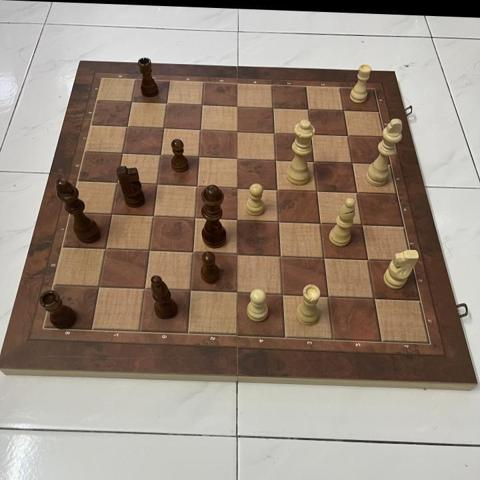xcorner: (138, 280, 155, 297), (196, 96, 212, 113), (350, 184, 366, 201), (355, 216, 371, 233), (230, 246, 247, 262), (92, 278, 108, 295), (184, 282, 201, 298), (125, 93, 141, 109), (160, 95, 176, 111), (231, 98, 247, 114), (266, 100, 282, 116), (302, 101, 318, 117), (337, 103, 353, 119), (120, 118, 136, 134), (157, 120, 173, 136), (194, 121, 210, 137), (231, 123, 247, 139), (268, 125, 284, 141), (304, 126, 320, 142), (341, 128, 357, 144), (116, 145, 132, 161), (154, 146, 170, 162), (193, 148, 209, 164), (231, 150, 247, 166), (269, 152, 285, 168), (307, 153, 323, 169), (345, 155, 361, 171), (111, 174, 127, 190), (151, 176, 167, 192), (191, 177, 207, 193), (231, 179, 247, 195), (271, 181, 287, 197), (310, 183, 326, 199), (105, 206, 121, 222), (147, 207, 163, 223), (189, 209, 205, 225), (231, 211, 247, 227), (272, 213, 288, 229), (314, 215, 330, 231), (99, 240, 115, 256), (143, 242, 159, 258), (187, 244, 203, 260), (274, 248, 290, 264), (318, 250, 334, 266), (361, 252, 377, 268), (230, 284, 246, 300), (276, 286, 292, 302), (322, 288, 338, 304), (367, 290, 383, 306)
